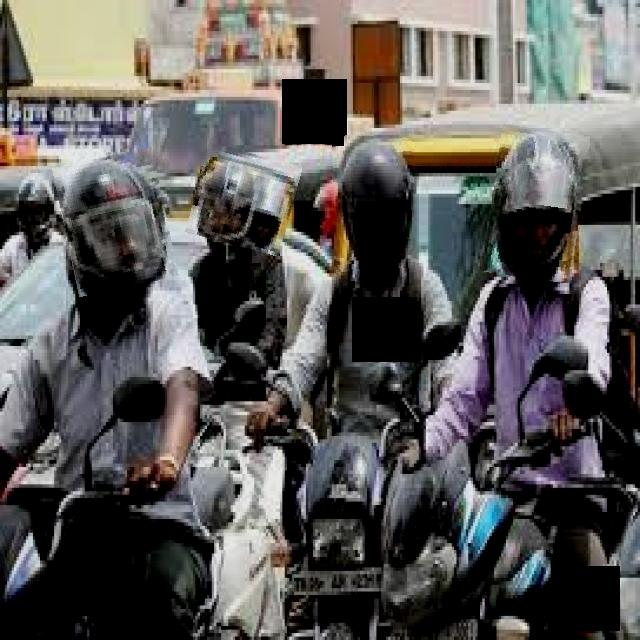helmet: (59, 152, 173, 292), (487, 127, 586, 280), (334, 134, 416, 288), (190, 148, 297, 251)
